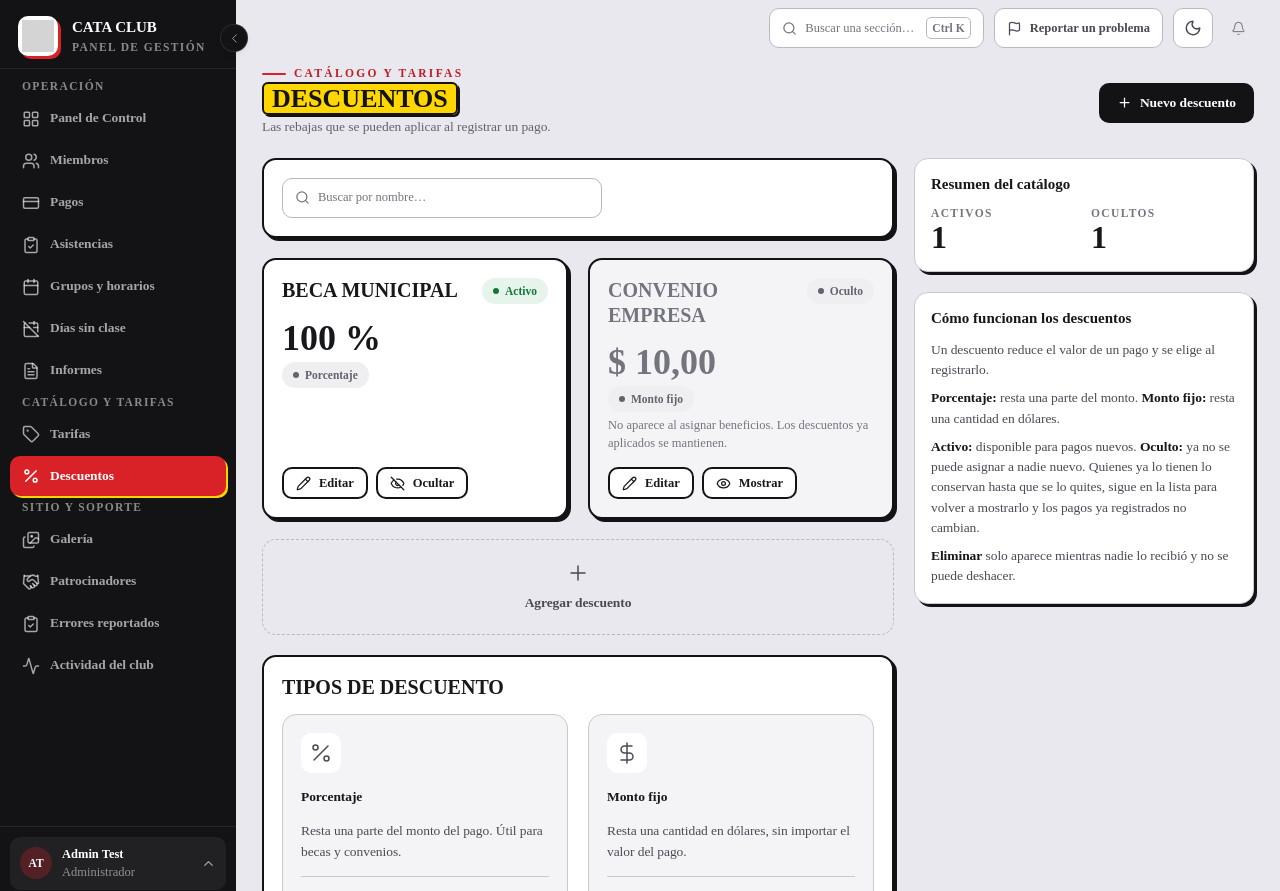
Test: DiscountsPage — búsqueda › narrows the list to discounts whose name matches the typed term
Expected: the list with test id "discounts-cards" is shown, top-left (262, 258), bottom-right (894, 635)
Type "beca" into the search field named "Buscar descuentos" at (454, 198), box top-left (318, 188), bottom-right (589, 207)
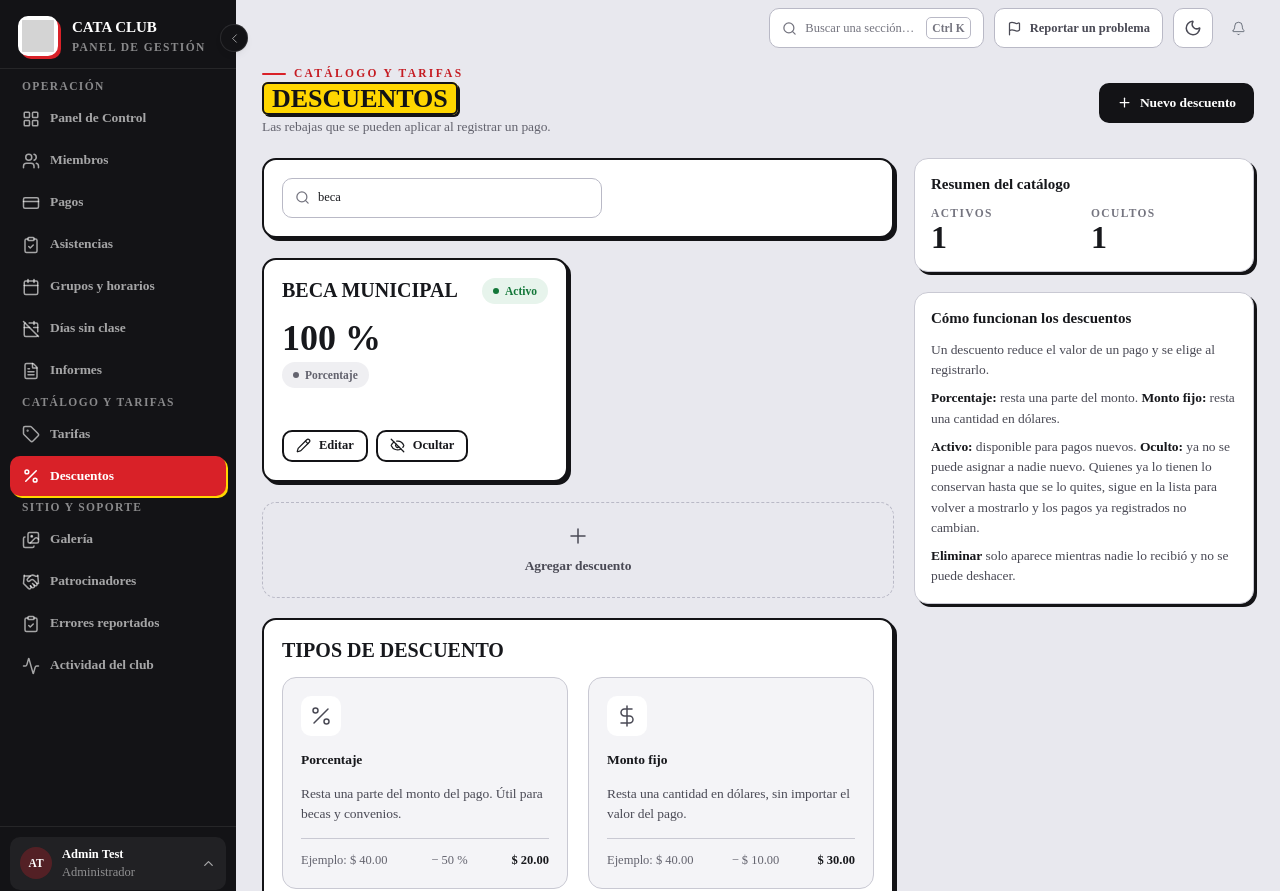
Expected: the heading "Beca municipal" is shown, top-left (282, 278), bottom-right (474, 303)
Now the heading "Convenio empresa" is gone
